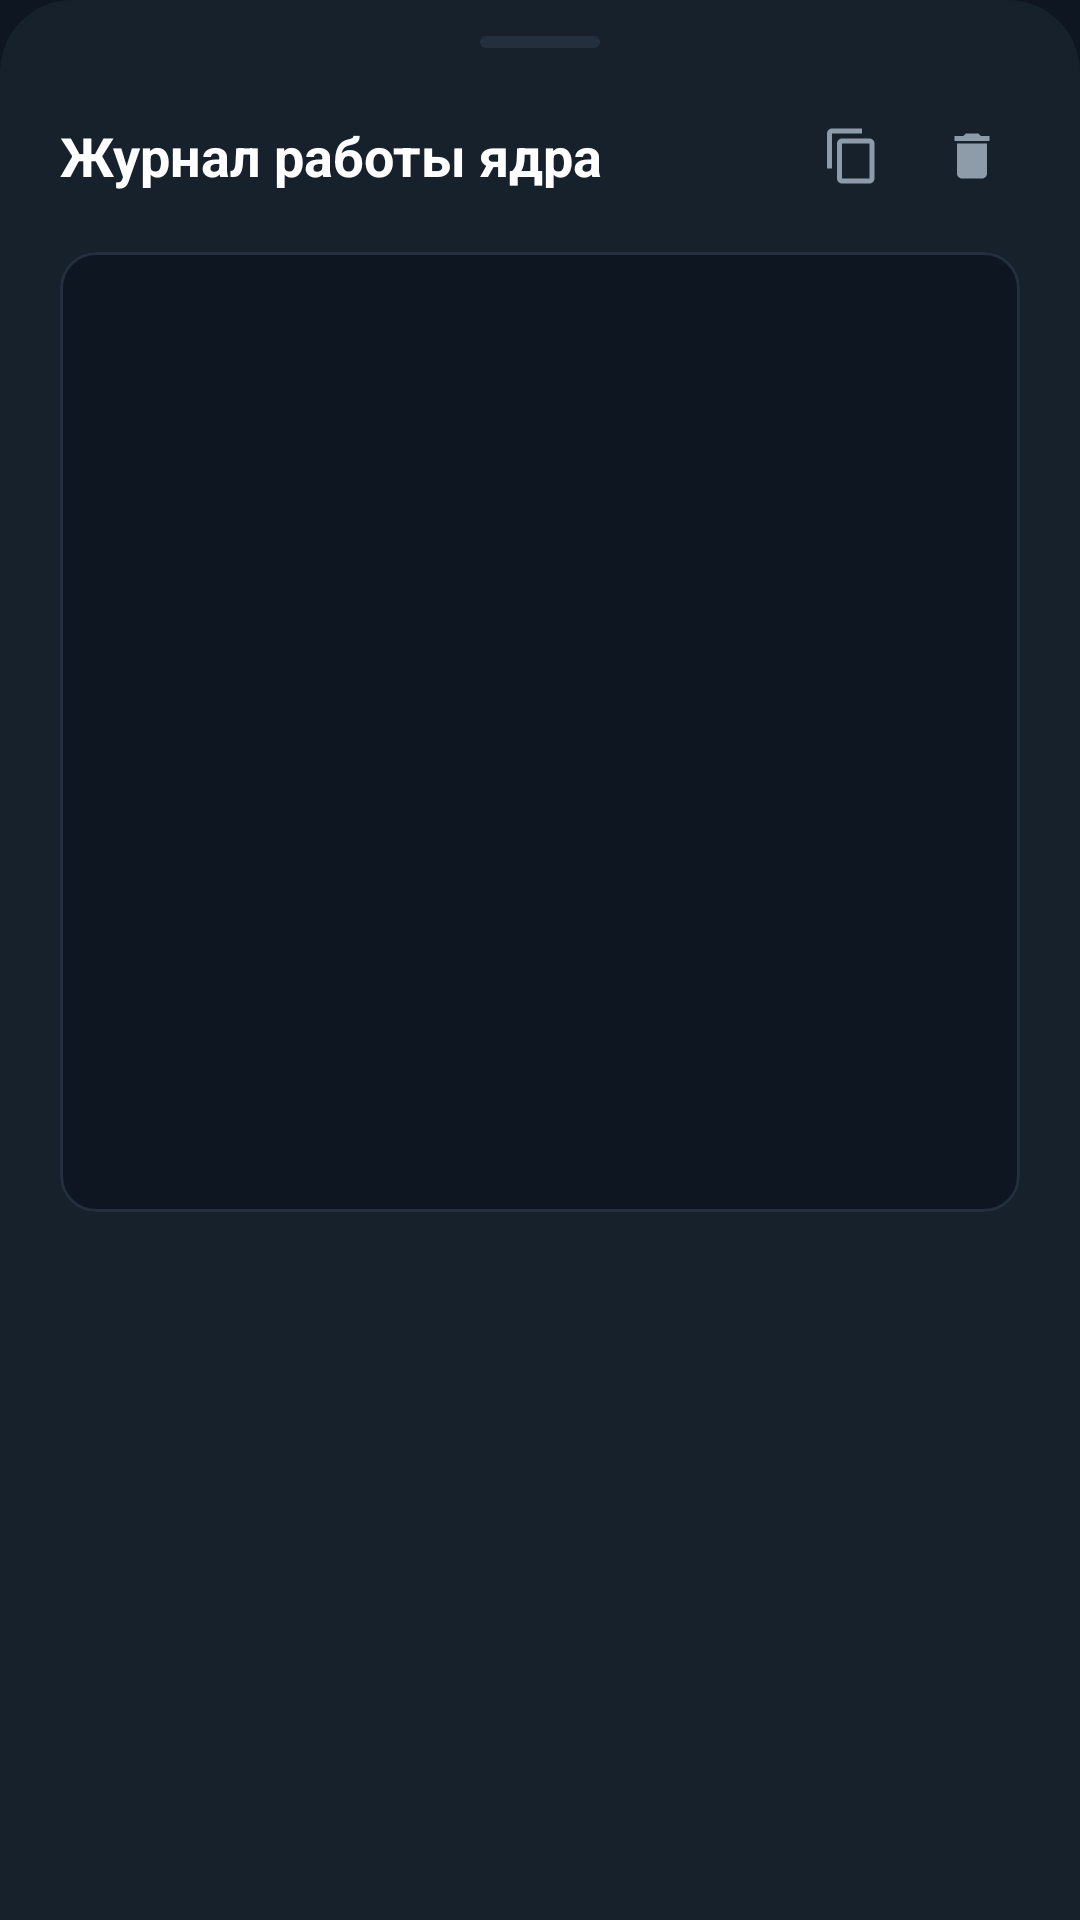

Where icons sit on this 1080 x 1920 app screen, as (x1, y1, x2, y2):
delete: (954, 133, 990, 179)
